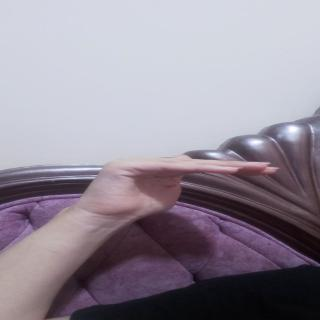KHAA: (81, 148, 292, 220)
